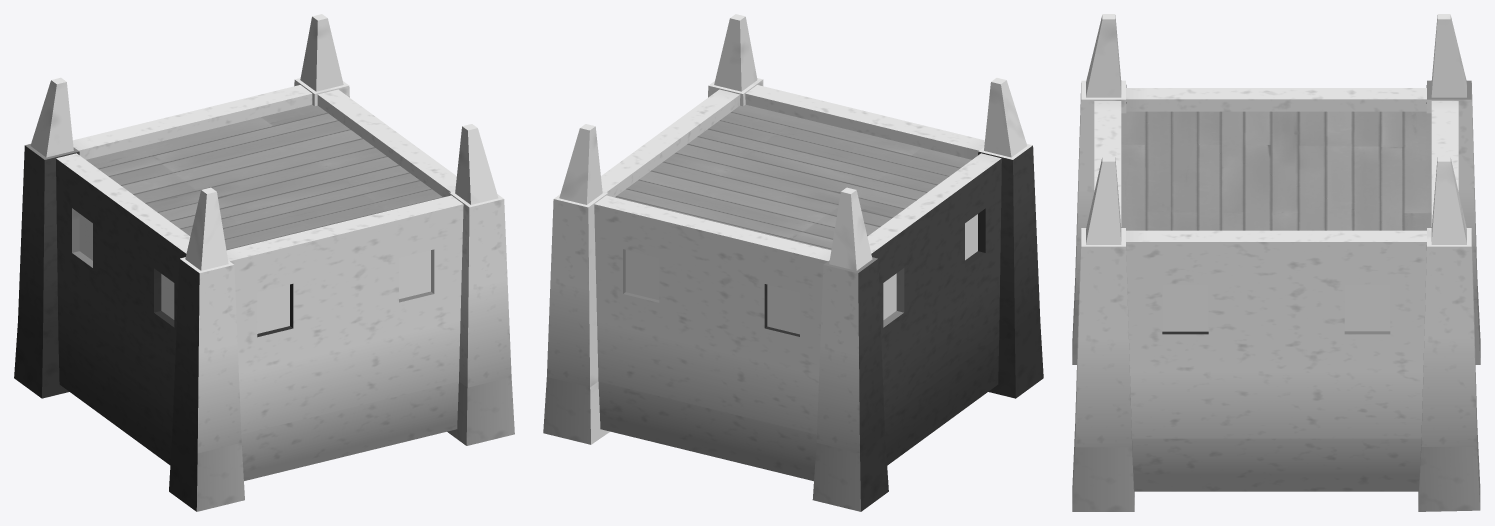
File: DesertHouseA.fbx
3 renders of one model, left to right at view 1: azimuth 30°, elevation 25°; view 2: azimuth 150°, elevation 25°; view 3: azimuth 270°, elevation 25°, orthographic. The views are drawn at different scales.
Parts seen in each view (by area): view 1: DesertHouseA; view 2: DesertHouseA; view 3: DesertHouseA.
Boxes of the visible parts, <box> form: DesertHouseA: <box>14,14,514,511</box>; DesertHouseA: <box>543,14,1043,511</box>; DesertHouseA: <box>1072,14,1480,511</box>.
Size of the model in its own units: 1092 by 991 by 1086.
